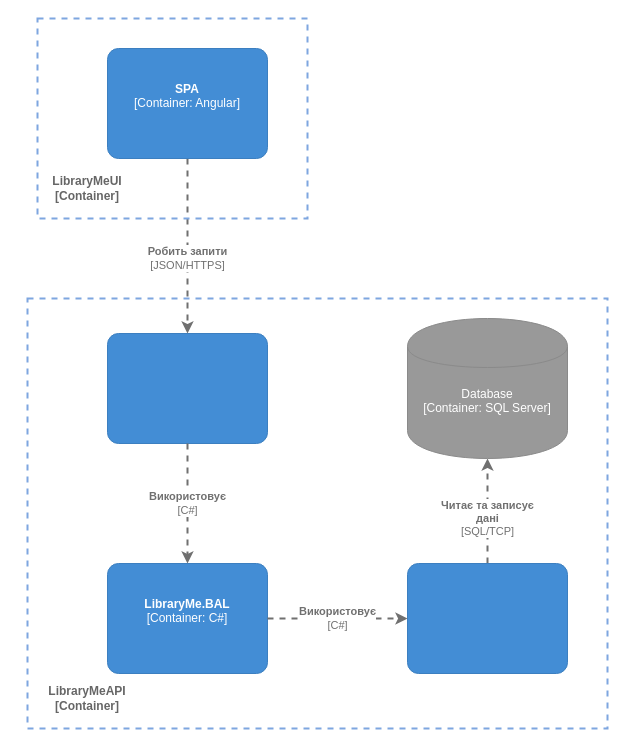
The diagram is 625 pixels wide and 746 high, and some of its shapes have lost their labels. The shapes that lost their labels are listed below. From the top down, each one's box as (x1, y1, x2, y2) in pixels, then its label:
(106, 332, 268, 444): LibraryMe.API [Container: ASP.NET core]
(406, 562, 568, 674): LibraryMe.DAL [Container: ASP.NET core and EF core]
